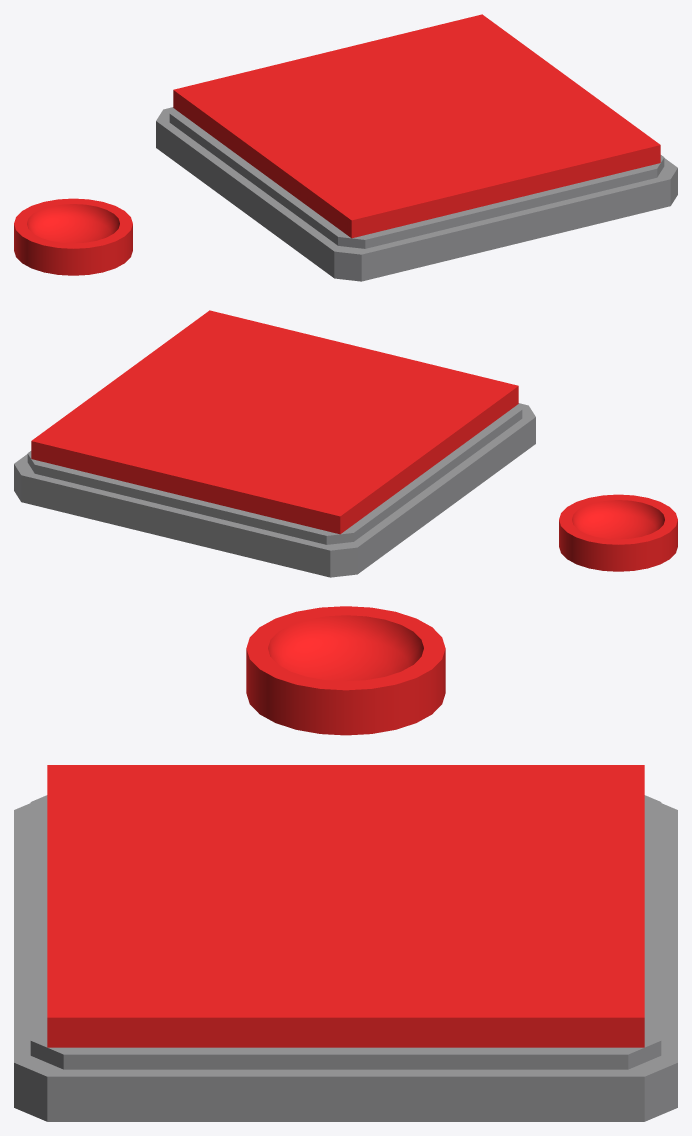
Rendered from PressurePlate.obj.
3 renders of one model, top to bottom at view 1: azimuth 30°, elevation 25°; view 2: azimuth 150°, elevation 25°; view 3: azimuth 270°, elevation 25°, orthographic. The views are drawn at different scales.
Parts seen in each view (by area): view 1: Press, Handle, Output; view 2: Press, Handle, Output; view 3: Press, Handle, Output.
Boxes of the visible parts, left/top/right/bottom form: Press: left=173, top=14, right=660, bottom=238; Handle: left=156, top=107, right=677, bottom=281; Output: left=14, top=198, right=132, bottom=275; Press: left=31, top=310, right=518, bottom=534; Handle: left=14, top=403, right=535, bottom=577; Output: left=559, top=494, right=677, bottom=571; Press: left=47, top=765, right=644, bottom=1047; Handle: left=14, top=795, right=677, bottom=1121; Output: left=246, top=606, right=445, bottom=735.
Bounding box in the file's own units: 3.3 × 0.3 × 2.
